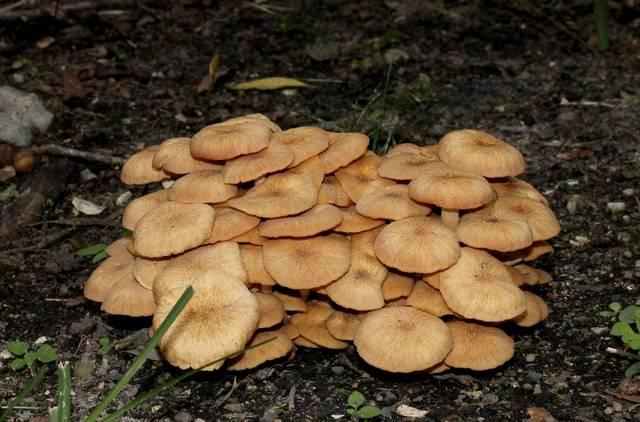edible_mushroom: (83, 112, 561, 375)
